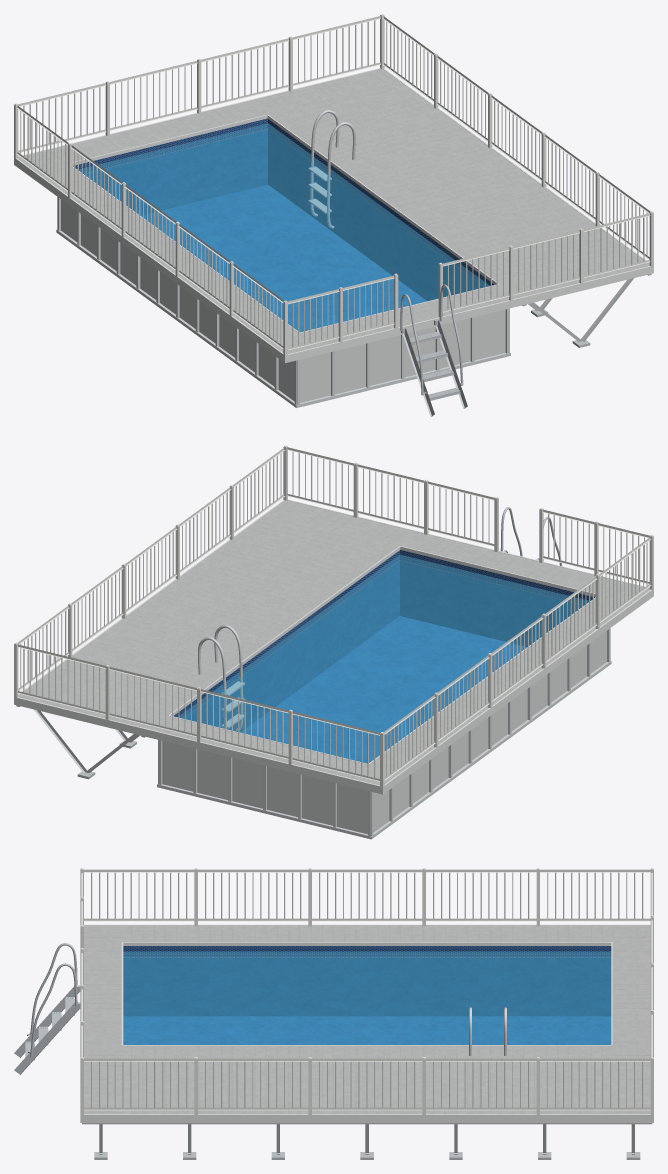
The model's file is kayak-pool-12x24-white-side-ag-fence.9aafd71e14.glb.
3 views of the same model, one above another, from view 1: azimuth 30°, elevation 25°; view 2: azimuth 150°, elevation 25°; view 3: azimuth 270°, elevation 25° (orthographic). The views are drawn at different scales.
Visible parts, largest first — view 1: deck, water, fence, liner_wall, liner_floor, wall, fascia, upright, ladder, steel, stud; view 2: deck, water, fence, liner_wall, liner_floor, wall, fascia, upright, steel, stud; view 3: deck, water, liner_wall, fence, liner_floor, fascia, stud, ladder.
Part boxes in pixels (x1,y1,x2,y2): deck: (17,69,649,353); water: (79,123,489,331); fence: (14,14,653,355); liner_wall: (73,118,494,300); liner_floor: (141,185,426,332); wall: (61,199,505,402); fascia: (14,68,653,363); upright: (56,197,510,407); ladder: (400,284,467,416); steel: (308,110,355,228); stud: (522,274,651,347); deck: (18,500,650,785); water: (179,554,588,763); fence: (14,445,653,786); liner_wall: (173,550,594,732); liner_floor: (241,616,526,763); wall: (162,631,606,834); fascia: (14,499,653,794); upright: (157,628,611,839); steel: (198,625,245,731); stud: (16,705,145,779); deck: (84,925,650,1114); water: (123,951,611,1044); liner_wall: (123,946,611,1016); fence: (80,868,653,1114); liner_floor: (123,1016,611,1044); fascia: (80,924,653,1122); stud: (82,1123,652,1159); ladder: (14,943,80,1074).
Size of the model in its own units: 6.71 by 2.15 by 9.52.
11 materials, 3 textured.
